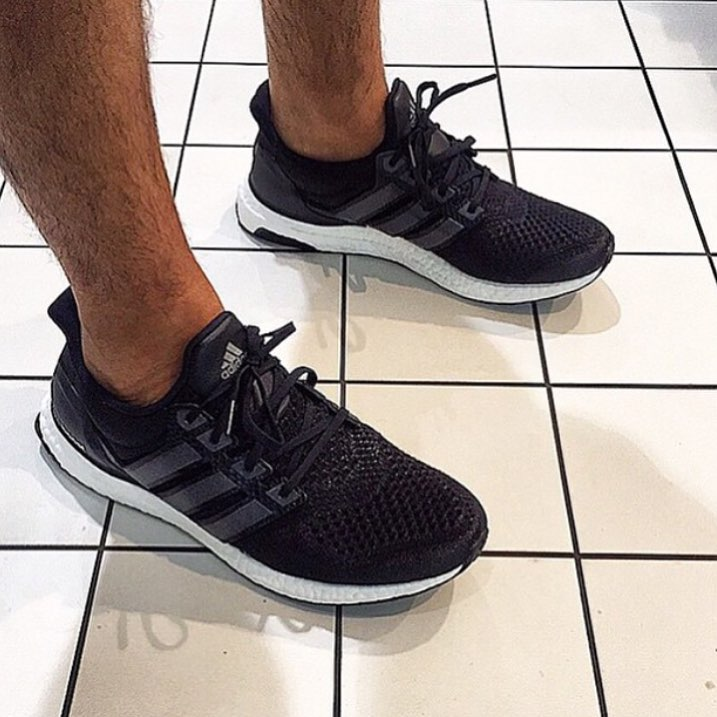sneaker: (15, 257, 501, 634), (219, 61, 623, 336)
